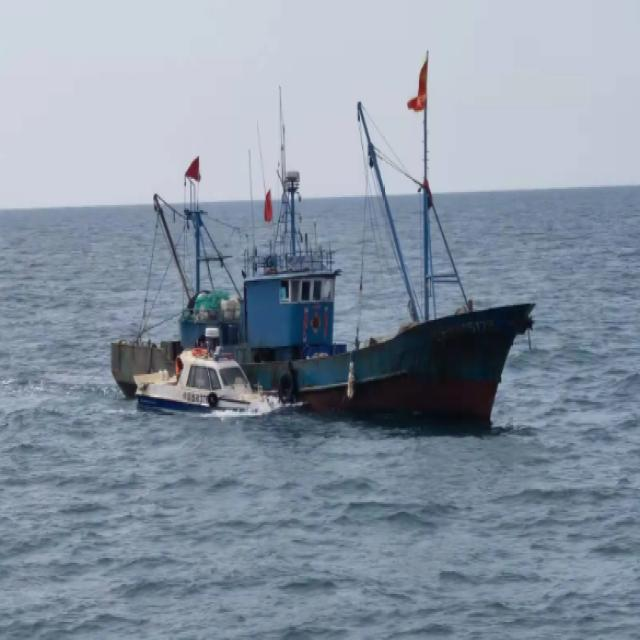fishing boat: (110, 100, 541, 423)
houseboat: (129, 332, 295, 420)
